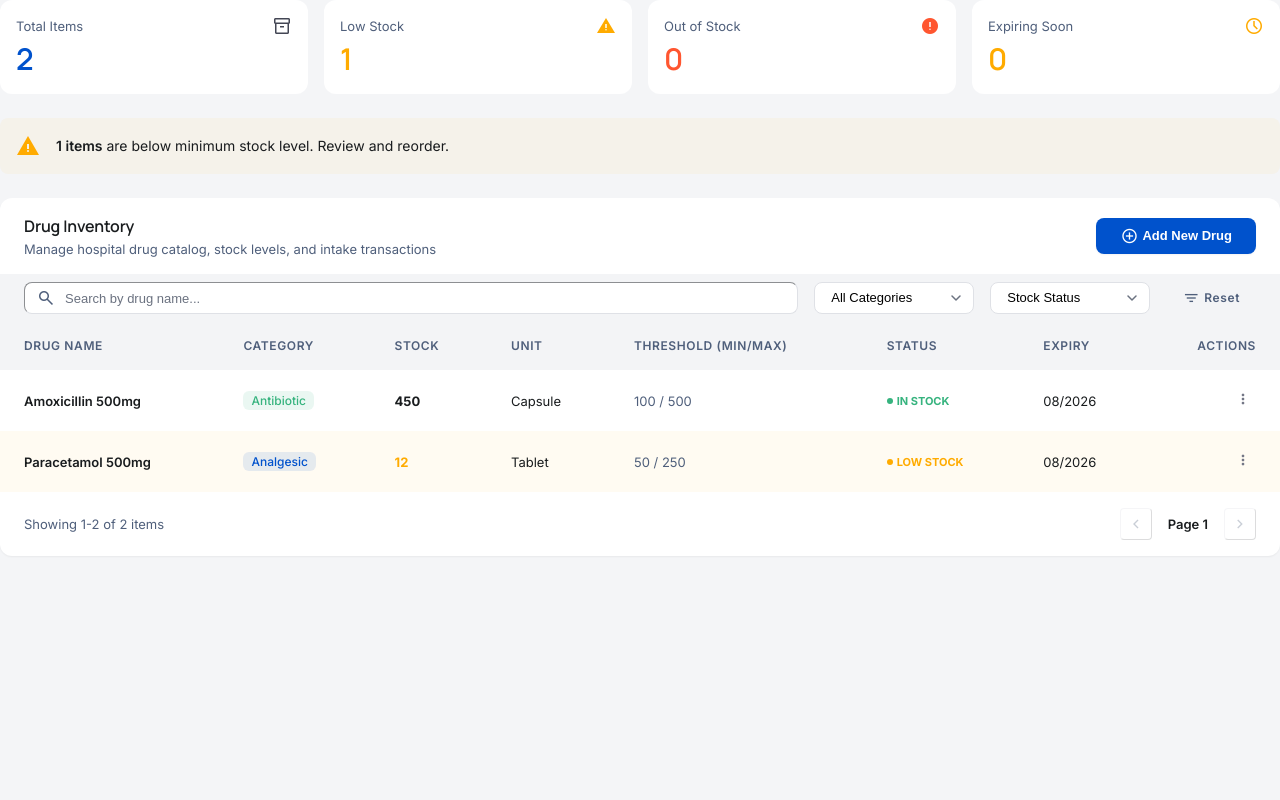
Scenario: StockManagementPage Component › opens Add Drug modal when Add New Drug button is clicked
The width and height of the screenshot is (1280, 800).
Expected: the text "Amoxicillin 500mg" is shown, [0,370,219,431]
Click the button "Add New Drug": [1176, 236] box [1096,218,1256,254]
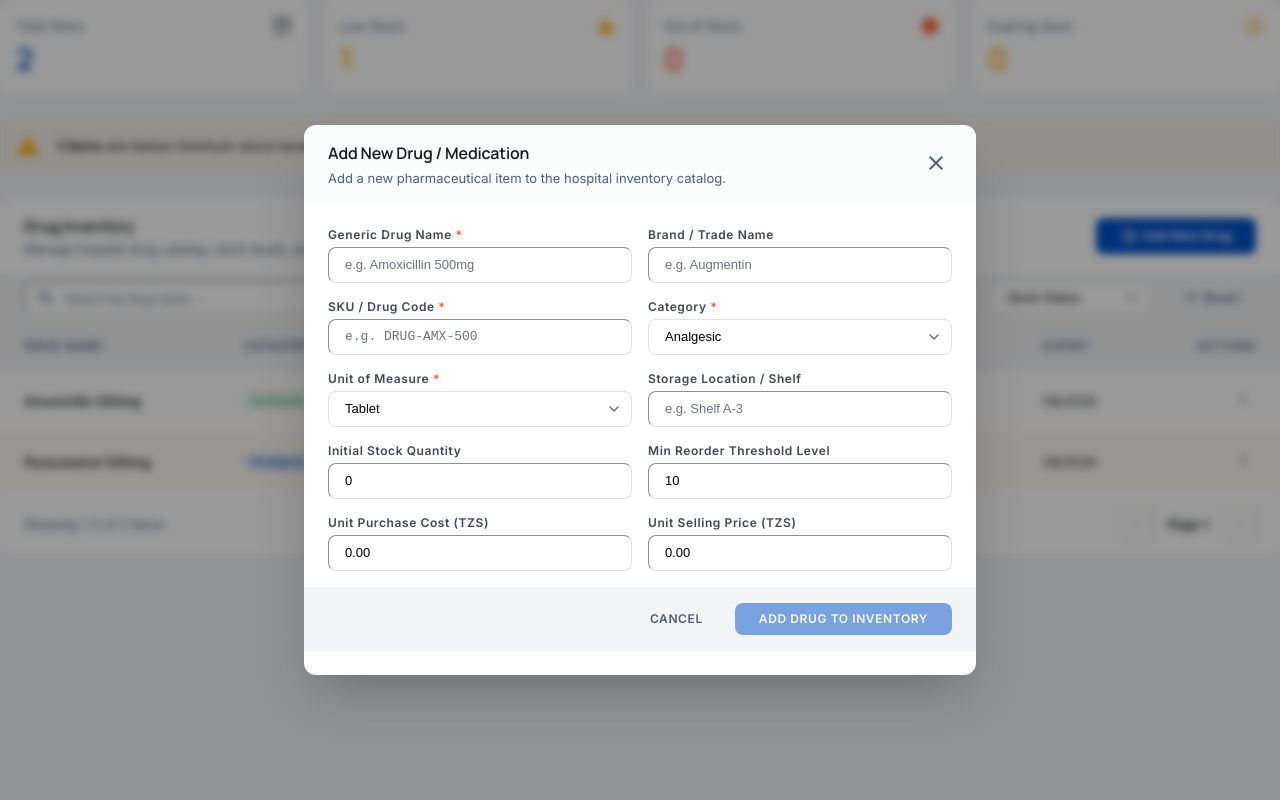
Now the dialog is shown
Now the heading "Add New Drug / Medication" is shown, box [328,142,529,164]
